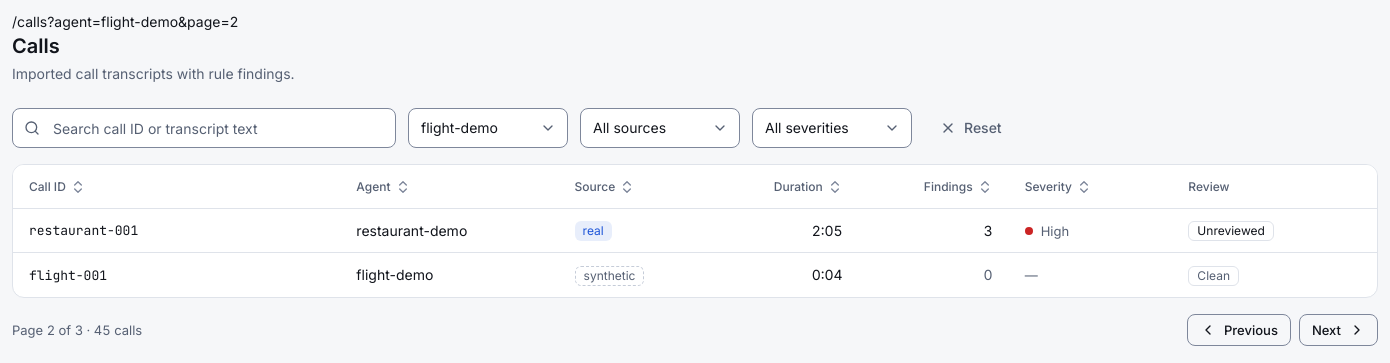
Test: calls page › changing a filter updates the URL, resets to page 1 and refetches
The image size is (1390, 363).
Expected: the table is shown, [13,165,1377,297]
Select "Real" in the dropdown named "Source" at (660, 128), box [580,108,740,148]
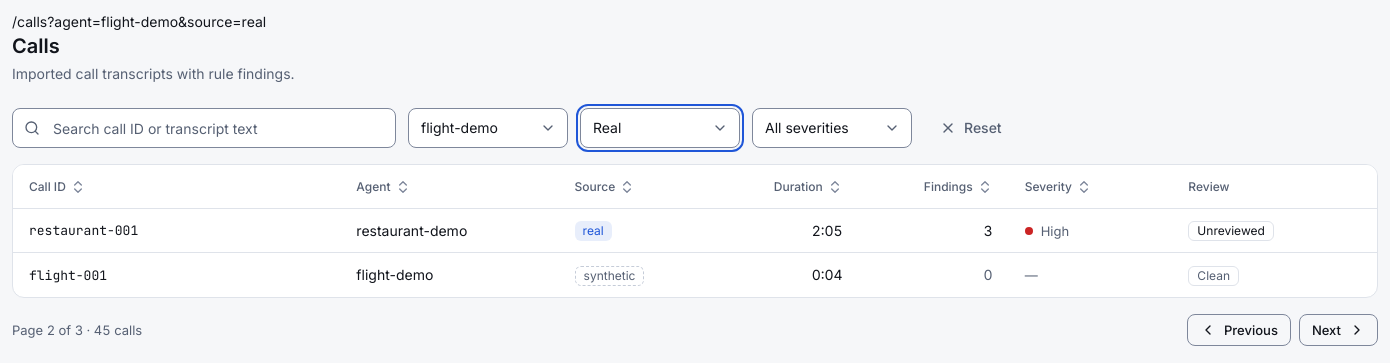
Expected: the text with test id "location" reads "/calls?agent=flight-demo&source=real", [12,13,266,30]
